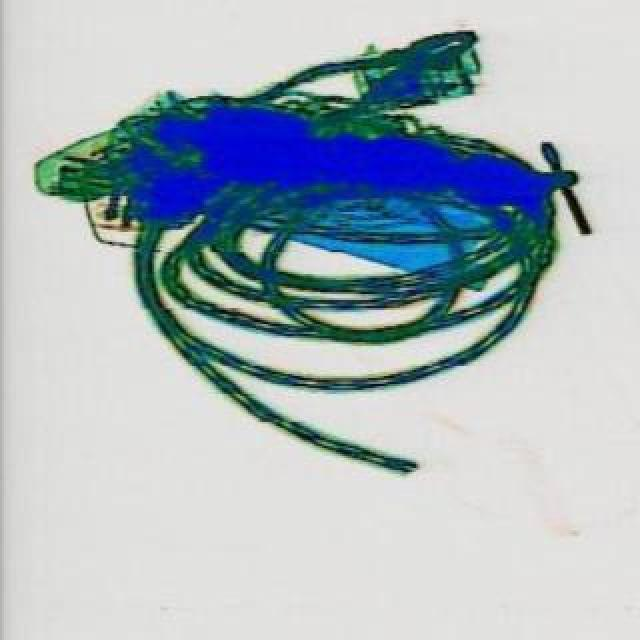wrench: (242, 8, 486, 152)
